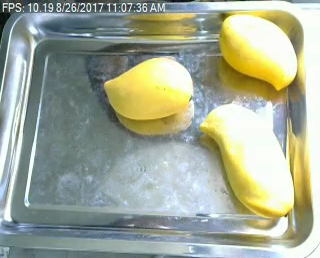Mango: (200, 100, 297, 223), (101, 55, 194, 126), (214, 15, 299, 92)
